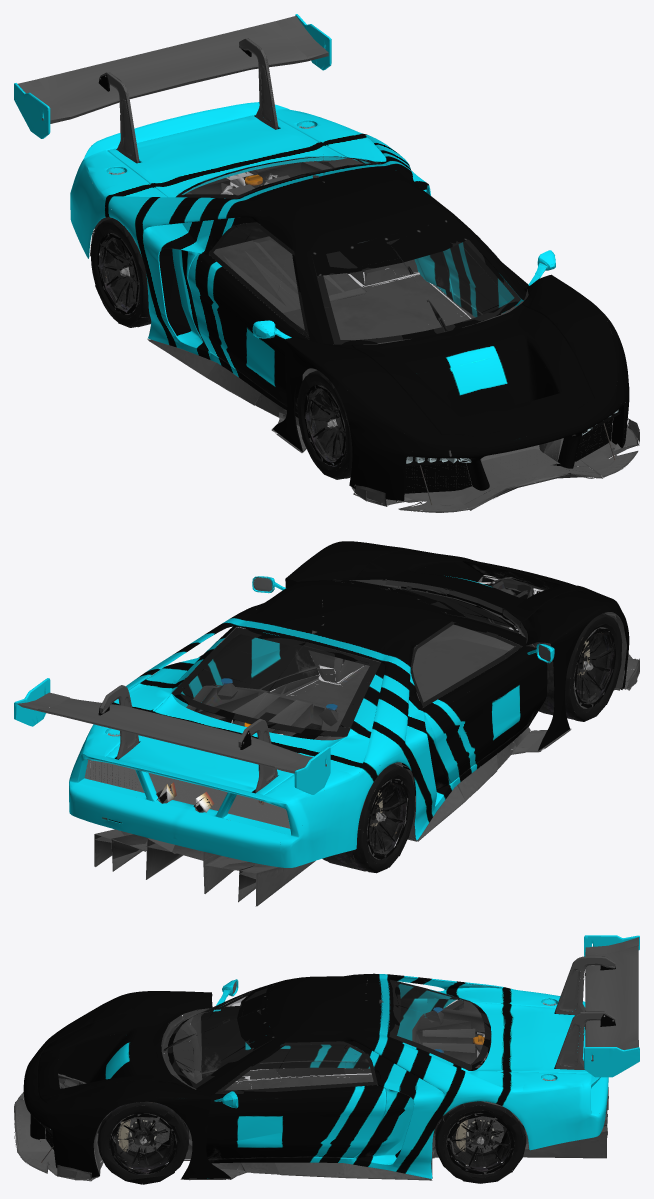
Rendered from vector_gt3_lod1.glb.
3 renders of one model, top to bottom at view 1: azimuth 30°, elevation 25°; view 2: azimuth 150°, elevation 25°; view 3: azimuth 270°, elevation 25°, orthographic. The views are drawn at different scales.
Visible parts, largest first — view 1: Body, Wheel_RR, Wheel_FR; view 2: Body, Wheel_RR, Wheel_FR; view 3: Body, Wheel_FL, Wheel_RL.
Part boxes in pixels (x1,y1,x2,y2): Body: (14, 14, 639, 512); Wheel_RR: (90, 218, 151, 327); Wheel_FR: (297, 370, 352, 479); Body: (14, 541, 639, 906); Wheel_RR: (322, 763, 414, 873); Wheel_FR: (533, 613, 622, 721); Body: (14, 935, 639, 1181); Wheel_FL: (97, 1101, 189, 1184); Wheel_RL: (434, 1101, 526, 1183).
Bounding box in the file's own units: 2.12 × 1.27 × 4.69.
5 materials, 5 textured.
